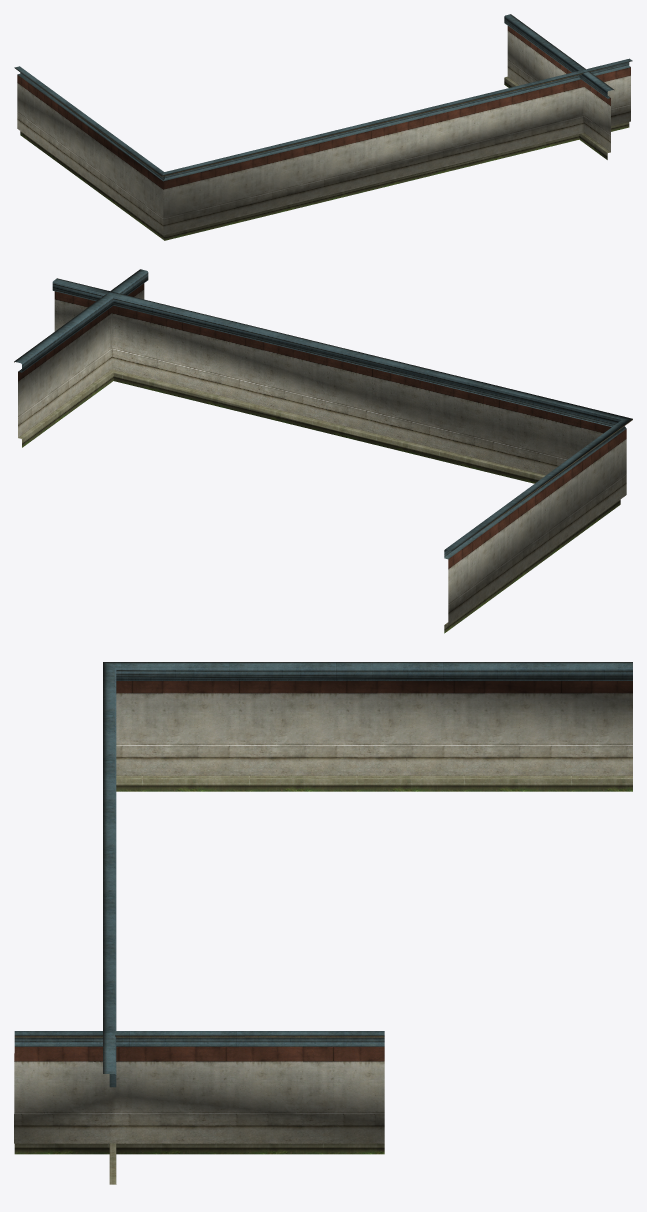
The model's file is ParkWall1.obj.
3 renders of one model, top to bottom at view 1: azimuth 30°, elevation 25°; view 2: azimuth 150°, elevation 25°; view 3: azimuth 270°, elevation 25°, orthographic. The views are drawn at different scales.
Parts seen in each view (by area): view 1: Wall.003; view 2: Wall.003; view 3: Wall.003.
Boxes of the visible parts, left/top/right/bottom form: Wall.003: left=14, top=14, right=632, bottom=240; Wall.003: left=14, top=269, right=632, bottom=633; Wall.003: left=14, top=662, right=632, bottom=1184.
Size of the model in its own units: 36.35 by 5.1 by 23.09.
